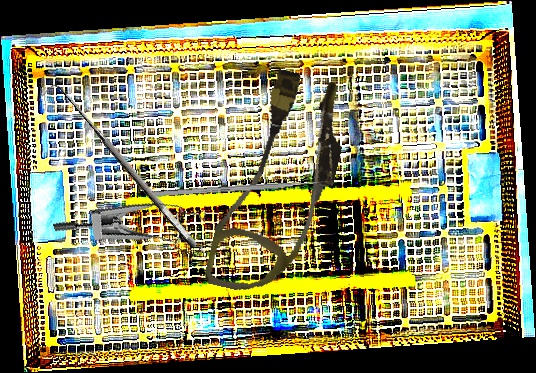Cannula: (203, 63, 356, 306)
Hook Surgical: (40, 76, 201, 261)
Pusher: (154, 178, 331, 198)
Speculum: (52, 177, 217, 295)
